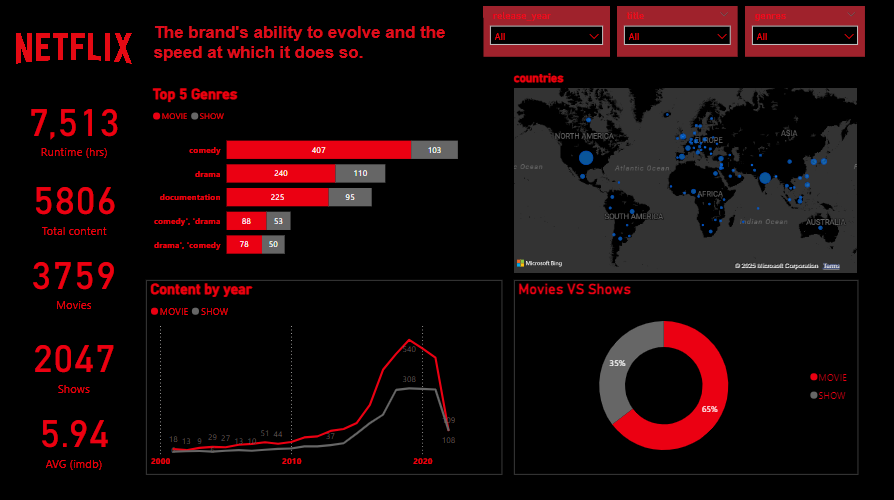

The page's visual inventory and layout, read from the dashboard file:
{"tool":"powerbi","page":{"name":"Page 1","canvas":[1280,720],"ordinal":0},"visuals":[{"type":"card","fields":{"Values":["titles.runtime(hrs)"]},"box":[31.9,129.3,152.9,112.5],"z":0},{"type":"card","fields":{"Values":["credits.Total content"]},"box":[31.9,241.9,152.9,109.2],"z":1000},{"type":"card","fields":{"Values":["credits.Movies"]},"box":[32.6,335.9,151.7,133.2],"z":2000},{"type":"card","fields":{"Values":["credits.Shows"]},"box":[32.6,469.1,151.7,103.5],"z":3000},{"type":"card","fields":{"Values":["credits.AVG (imdb)"]},"box":[32.6,572.6,151.7,109.1],"z":4000},{"type":"barChart","title":"Top 5 Genres","fields":{"Category":["titles.genres"],"Y":["New Measures.Total content"],"Series":["titles.type"]},"box":[215,131,500.6,257],"z":5000},{"type":"lineChart","title":"Content by year","fields":{"Category":["titles.release_year"],"Y":["New Measures.Total content"],"Series":["titles.type"]},"box":[211.2,405.4,504.6,276.4],"z":6000},{"type":"map","title":"countries","fields":{"Category":["titles.production_countries"],"Size":["New Measures.runtime(hrs)"]},"box":[727.1,109.1,497.5,292],"z":7000},{"type":"donutChart","title":"Movies VS Shows","fields":{"Category":["titles.type"],"Y":["New Measures.Total content"]},"box":[732.8,405.4,487.6,276.4],"z":8000},{"type":"slicer","fields":{"Values":["titles.release_year"]},"box":[688.8,17,180,72.3],"z":9000},{"type":"slicer","fields":{"Values":["titles.title"]},"box":[878.7,17,171.5,72.3],"z":10000},{"type":"slicer","fields":{"Values":["titles.genres"]},"box":[1060.2,17,170.1,72.3],"z":11000},{"type":"image","box":[3.4,16.8,211.7,114.2],"z":12000},{"type":"textbox","box":[215,33.6,473.7,75.6],"z":13000}]}

Visuals, with their boxes in screenshot pixels (x1, y1, x2, y2), scaled from the page's 1280x720 canvas onto the 894x500 screenshot:
card - titles.runtime(hrs): 22 90 129 168
card - credits.Total content: 22 168 129 244
card - credits.Movies: 23 233 129 326
card - credits.Shows: 23 326 129 398
card - credits.AVG (imdb): 23 398 129 473
"Top 5 Genres" barChart: 150 91 500 269
"Content by year" lineChart: 148 282 500 473
"countries" map: 508 76 855 279
"Movies VS Shows" donutChart: 512 282 852 473
slicer - titles.release_year: 481 12 607 62
slicer - titles.title: 614 12 733 62
slicer - titles.genres: 740 12 859 62
image: 2 12 150 91
textbox: 150 23 481 76
